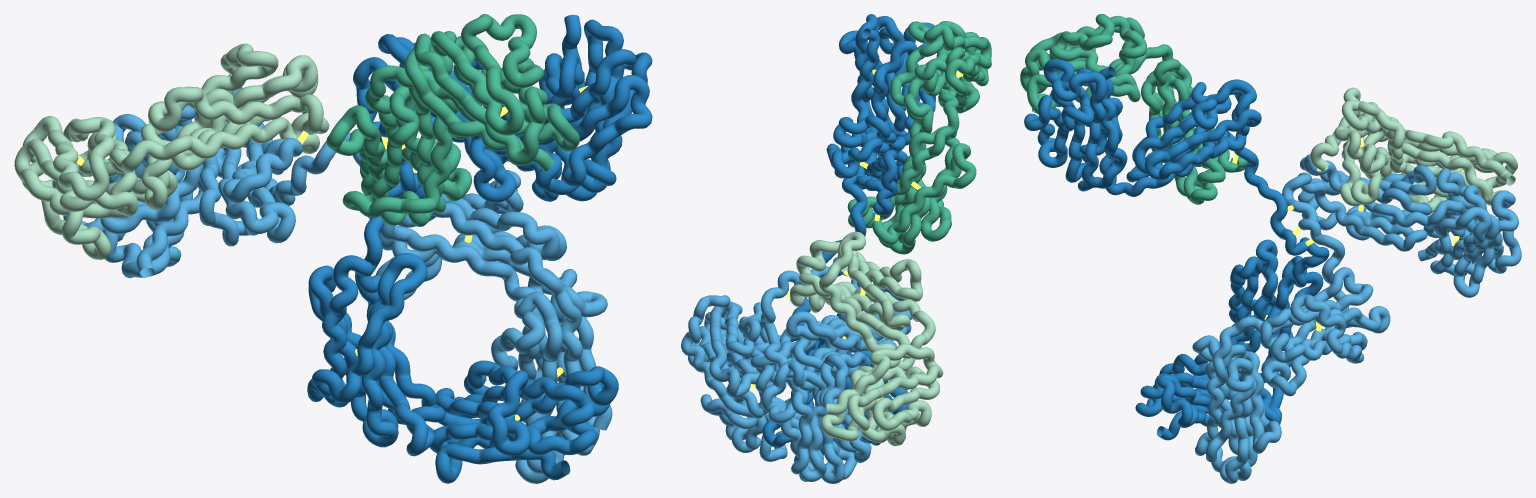
Rendered from antibody.glb.
3 renders of one model, left to right at view 1: azimuth 30°, elevation 25°; view 2: azimuth 150°, elevation 25°; view 3: azimuth 270°, elevation 25°, orthographic. The views are drawn at different scales.
Parts seen in each view (by area): view 1: antibody; view 2: antibody; view 3: antibody.
Part boxes in pixels (bbox=[...]): antibody: bbox=[14, 14, 652, 483]; antibody: bbox=[681, 14, 991, 483]; antibody: bbox=[1020, 14, 1521, 483].
Size of the model in its own units: 103 by 130 by 145.
